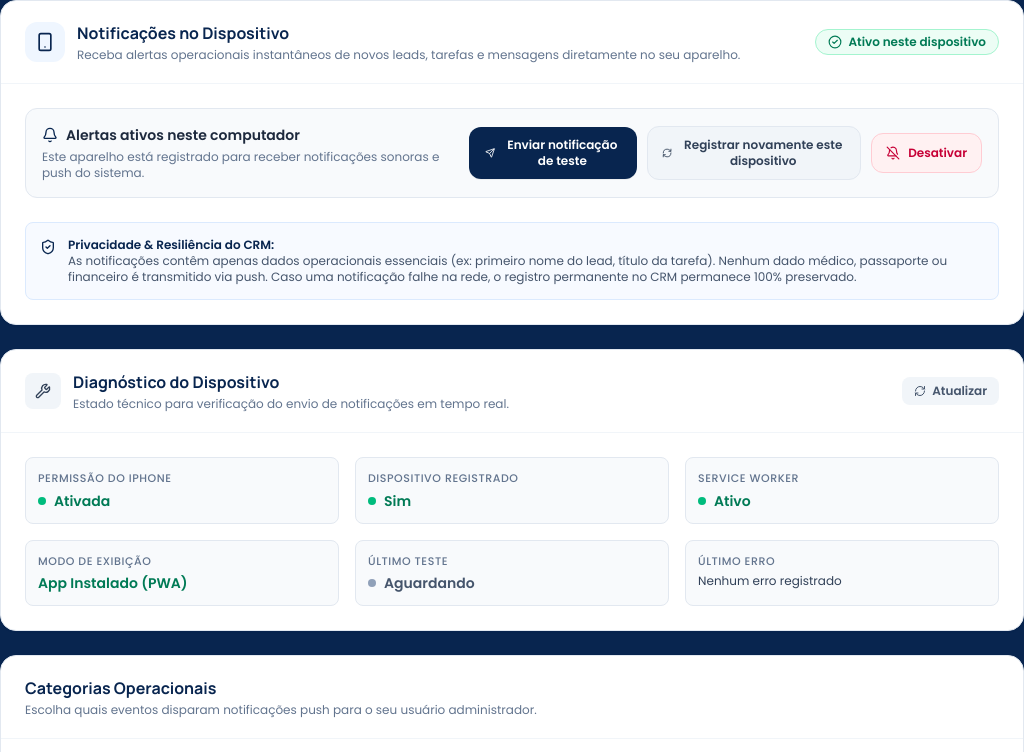
EDS HUB — Real iPhone Production Push Diagnostics & Recovery Tests › re-registers current device with current VAPID key and cleans up stale subscription
The width and height of the screenshot is (1024, 752).
Click the button with id "btn-reregister-push".
click(754, 153)  # box [647, 126, 861, 180]
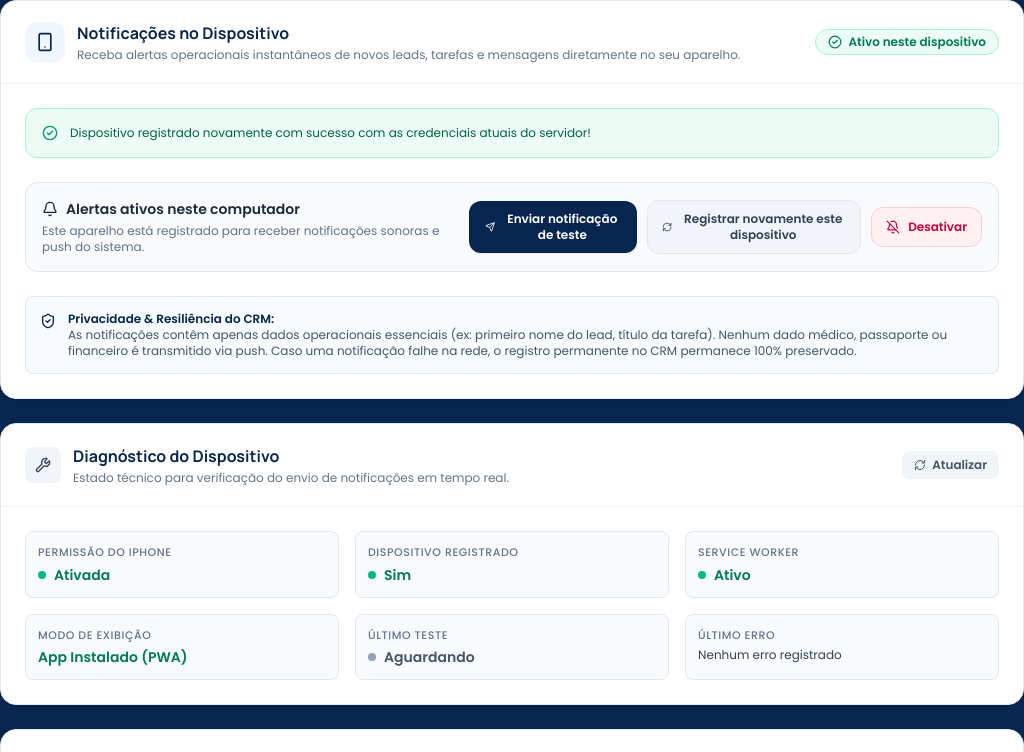
Result: the text "Dispositivo registrado novamente com sucesso" is shown at [70, 124, 591, 141]
